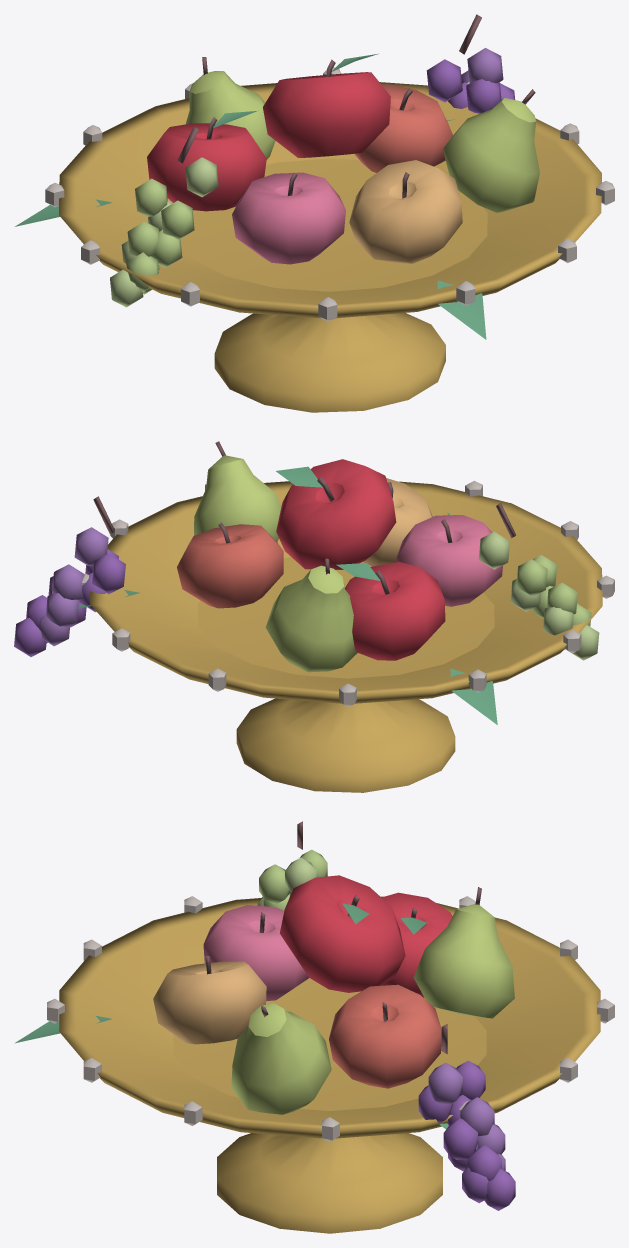
Rendered from fruit_bowl.glb.
The picture shows the model from 3 angles, top to bottom: view 1: azimuth 30°, elevation 25°; view 2: azimuth 150°, elevation 25°; view 3: azimuth 270°, elevation 25°; orthographic projection. The views are drawn at different scales.
Parts seen in each view (by area): view 1: fruit_bowl; view 2: fruit_bowl; view 3: fruit_bowl.
Part boxes in pixels (x1,y1,x2,y2): fruit_bowl: (14,14,614,412); fruit_bowl: (14,441,614,792); fruit_bowl: (15,821,614,1233).
Size of what is drawn, in the model's own units: 0.4 by 0.22 by 0.4.
